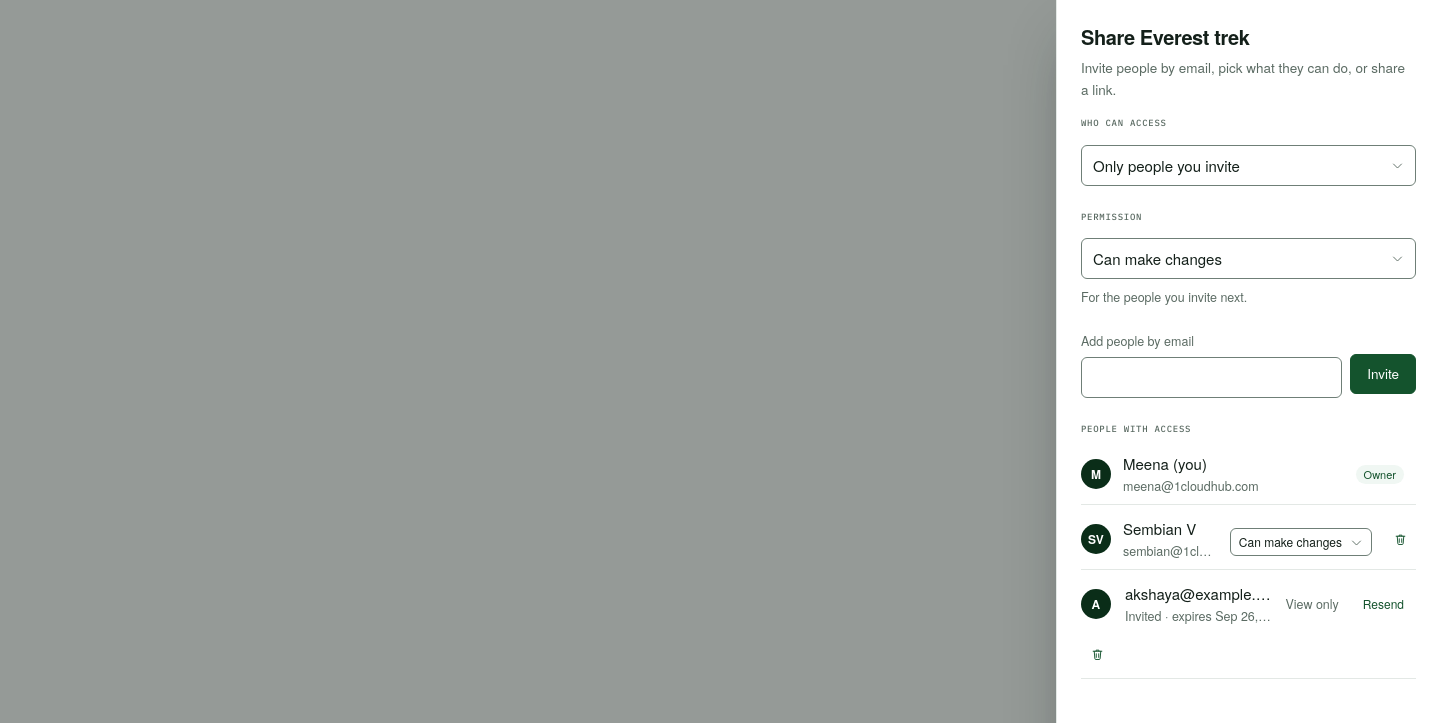
it: ShareSheet › SHARE-02 ONB-05 an invitation whose mail was refused is saved: the sheet says so with Resend, the row reads "email not sent", the tour is told, and Resend repor
Type "nobody@example.invalid" into the field labelled "Add people by email".
click(1212, 378); type("nobody@example.invalid")  # box x1=1081 y1=357 x2=1342 y2=398
Then press Enter
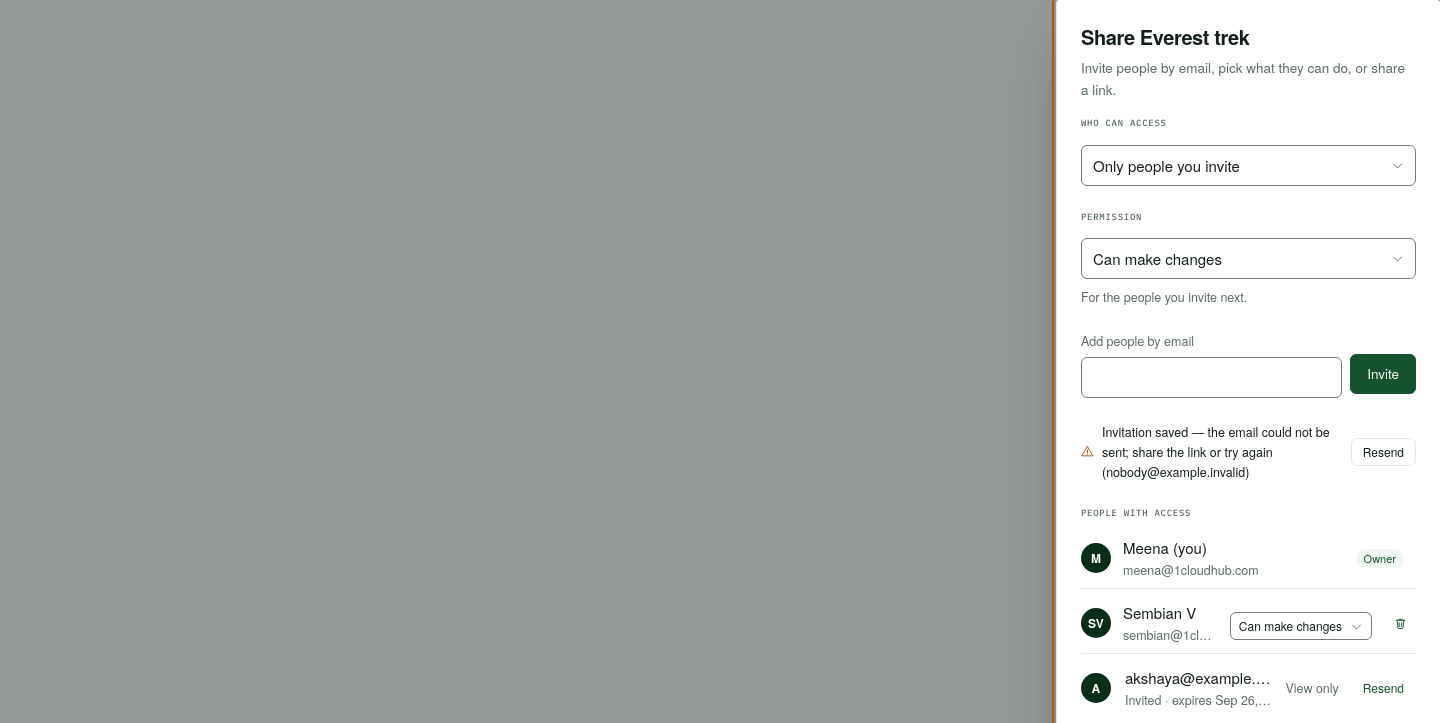
Now the message with test id "share-mail-failed" shows "Invitation saved — the email could not be sent; share the link or try again (nobody@example.invalid)", box x1=1081 y1=422 x2=1416 y2=482
Click the 1st button "Resend".
click(1383, 452)  # box x1=1351 y1=438 x2=1416 y2=466
(page scrolled)
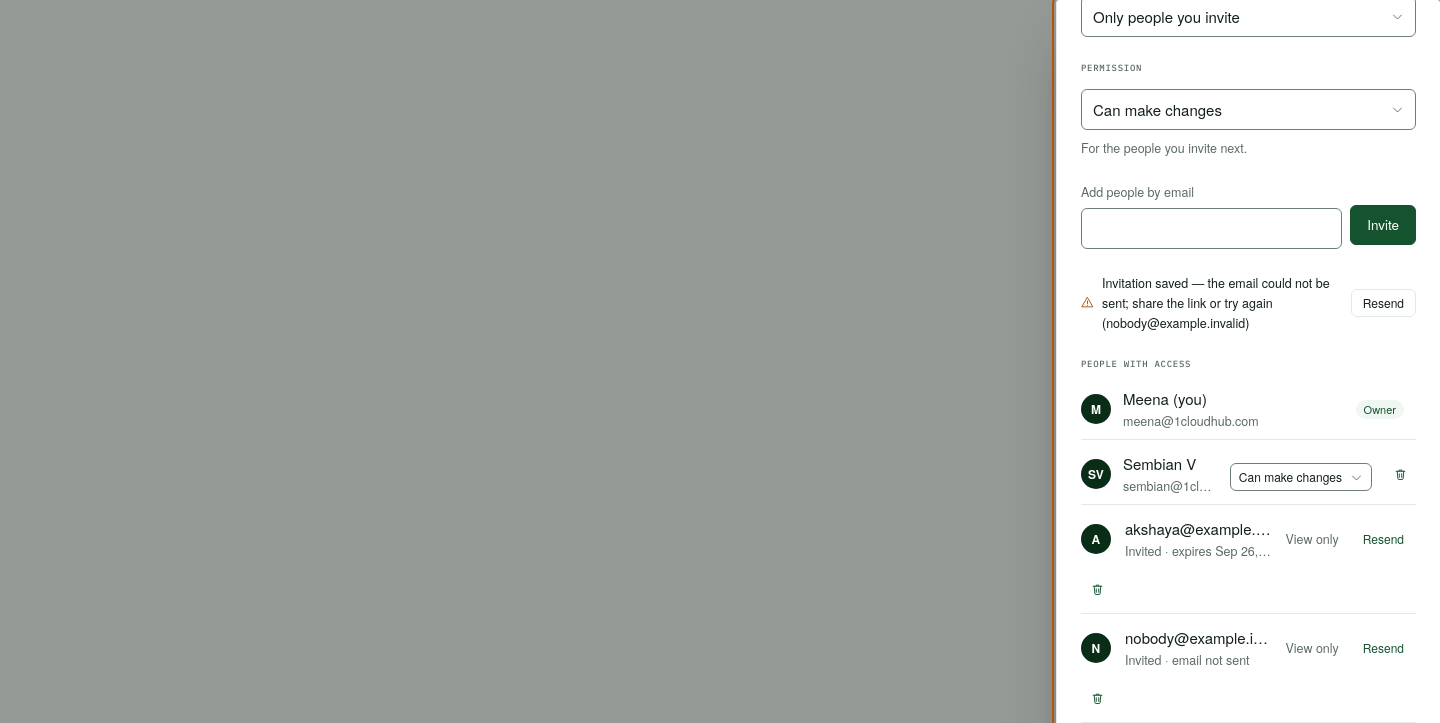
Click the button with aria-label "Resend invitation to nobody@example.invalid".
click(1383, 648)  # box x1=1351 y1=634 x2=1416 y2=663
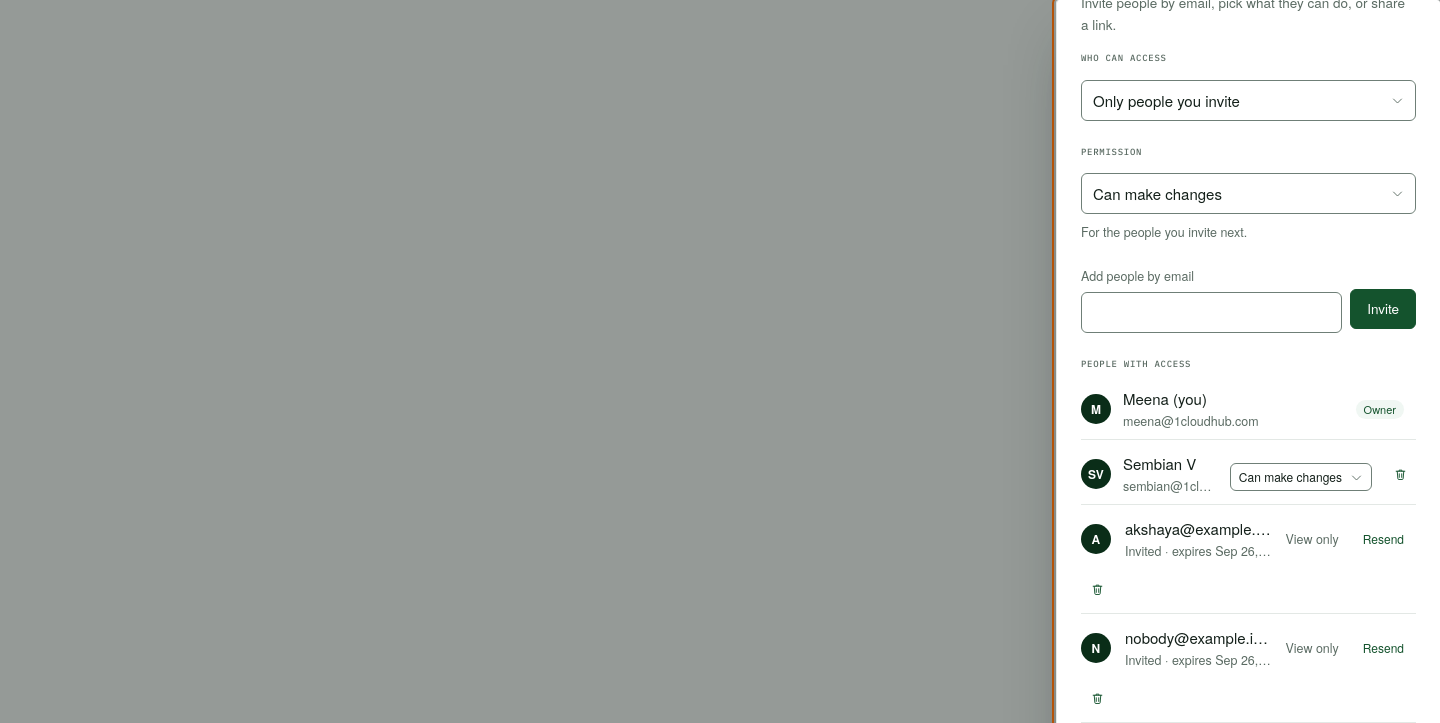
Now the message with test id "share-mail-failed" is gone
Now the text "Invited · email not sent" is gone
